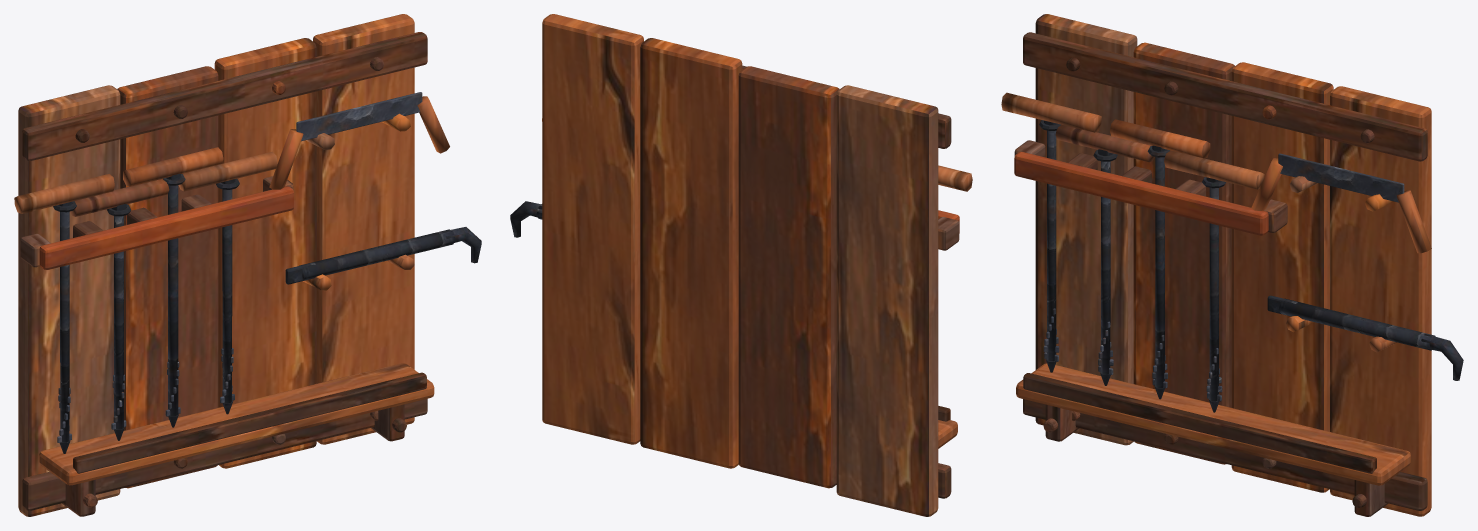
The model's file is mp_auger_rack.glb.
The picture shows the model from 3 angles, left to right: view 1: azimuth 30°, elevation 25°; view 2: azimuth 150°, elevation 25°; view 3: azimuth 330°, elevation 25°; orthographic projection.
Parts seen in each view (by area): view 1: model; view 2: model; view 3: model.
Boxes of the visible parts, x1,y1,x2,y2 form: model: (14,14,481,516); model: (510,14,972,516); model: (1001,14,1463,516).
Bounding box in the file's own units: 1.1 × 0.929 × 0.171.
Materials: 12 (12 with a texture image).
